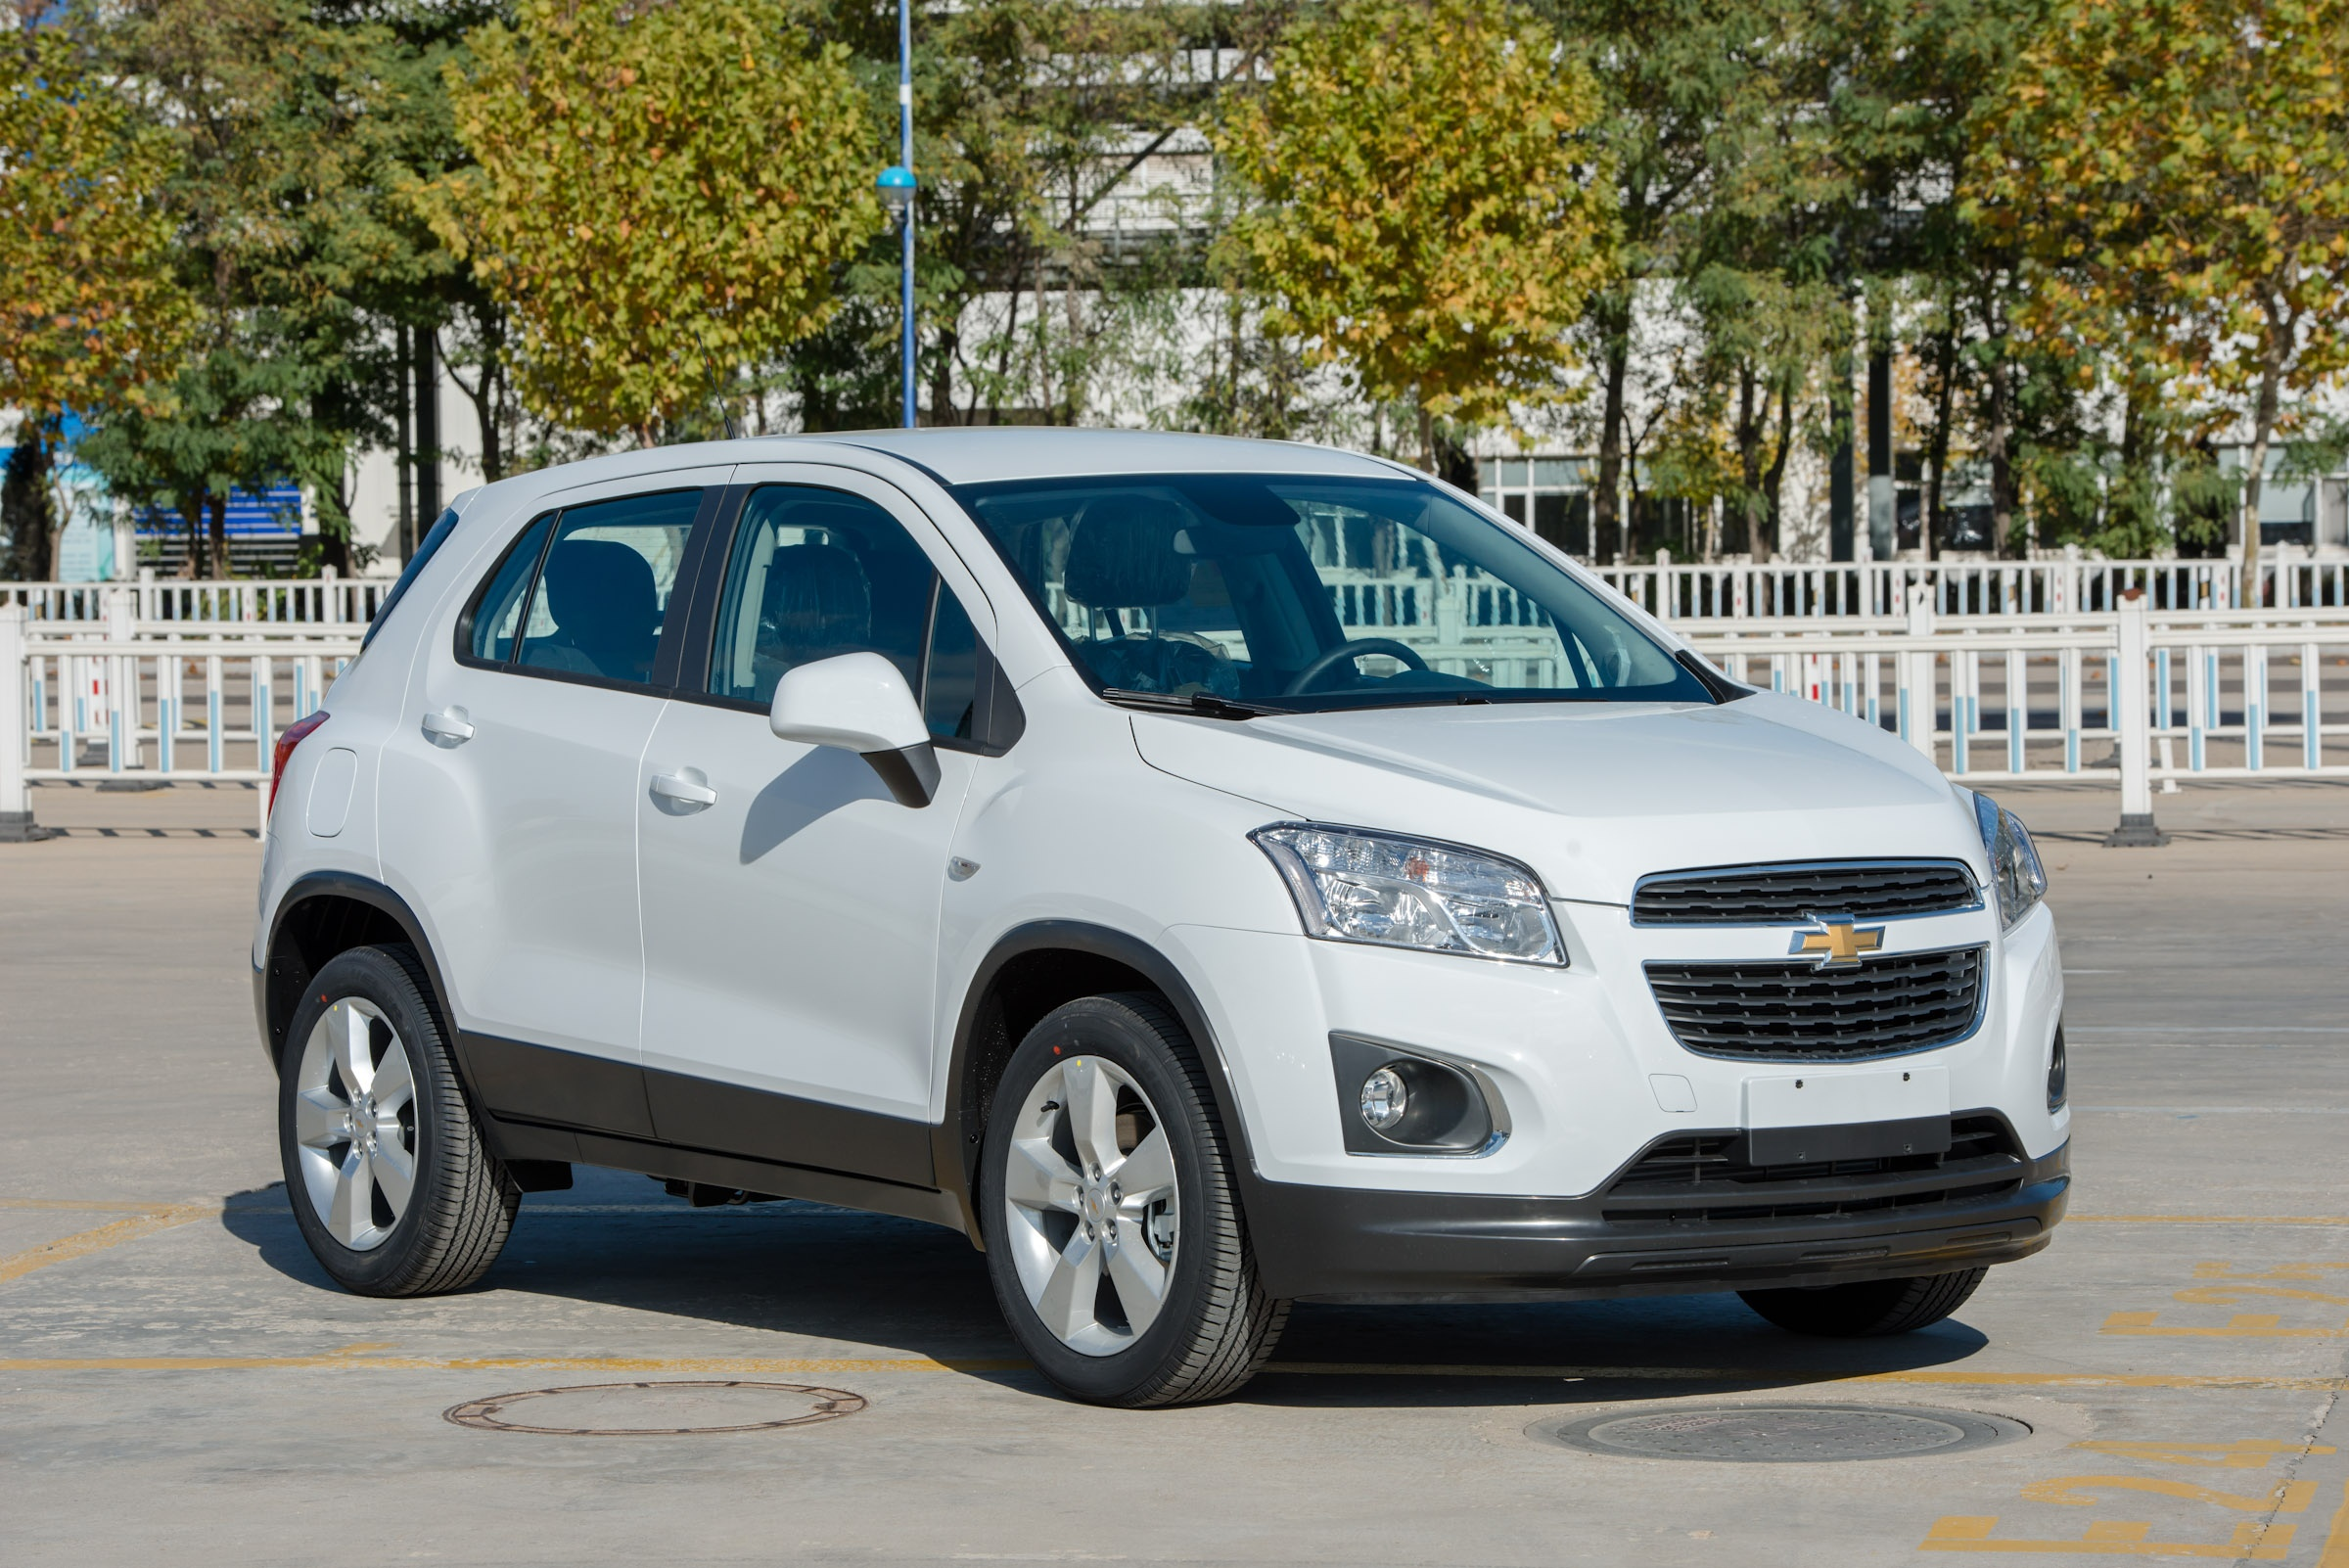SUV: (297, 376, 2090, 1405)
